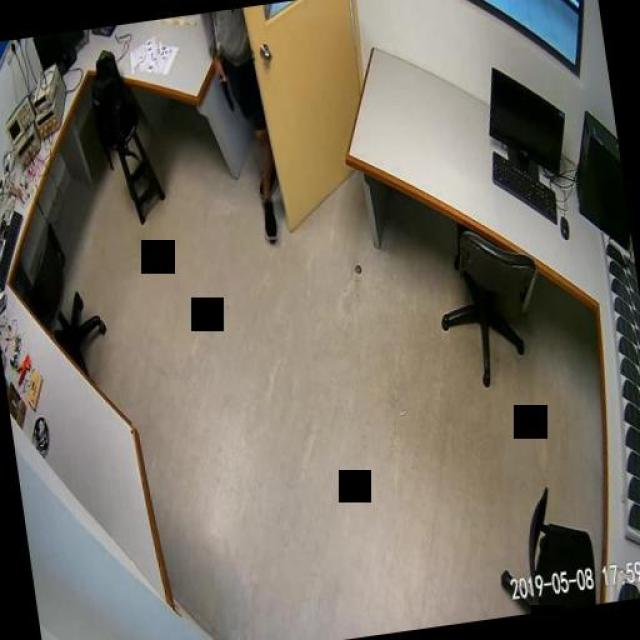gun: (214, 61, 232, 112)
